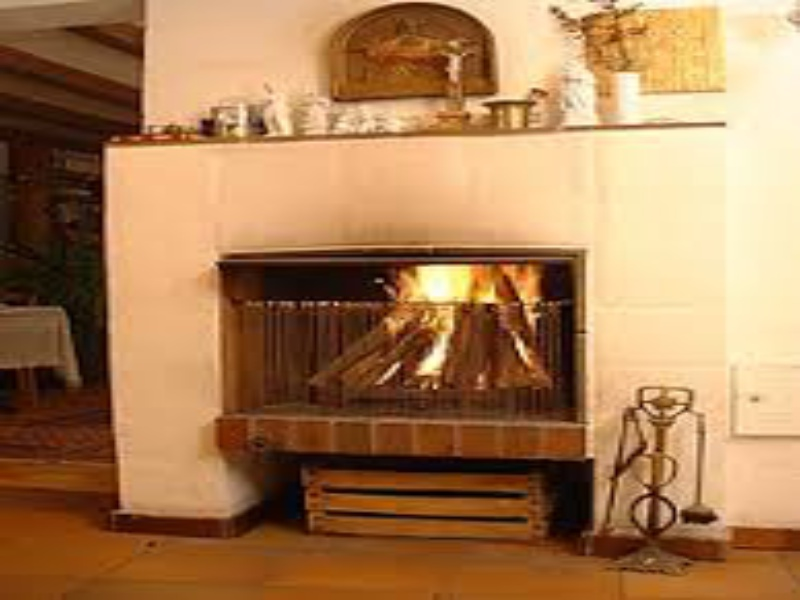fire: (381, 254, 550, 306)
